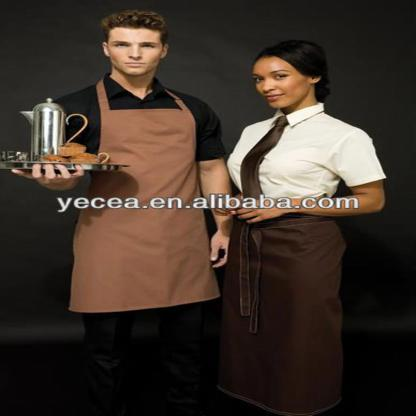face: (253, 57, 312, 110), (107, 25, 167, 75)
